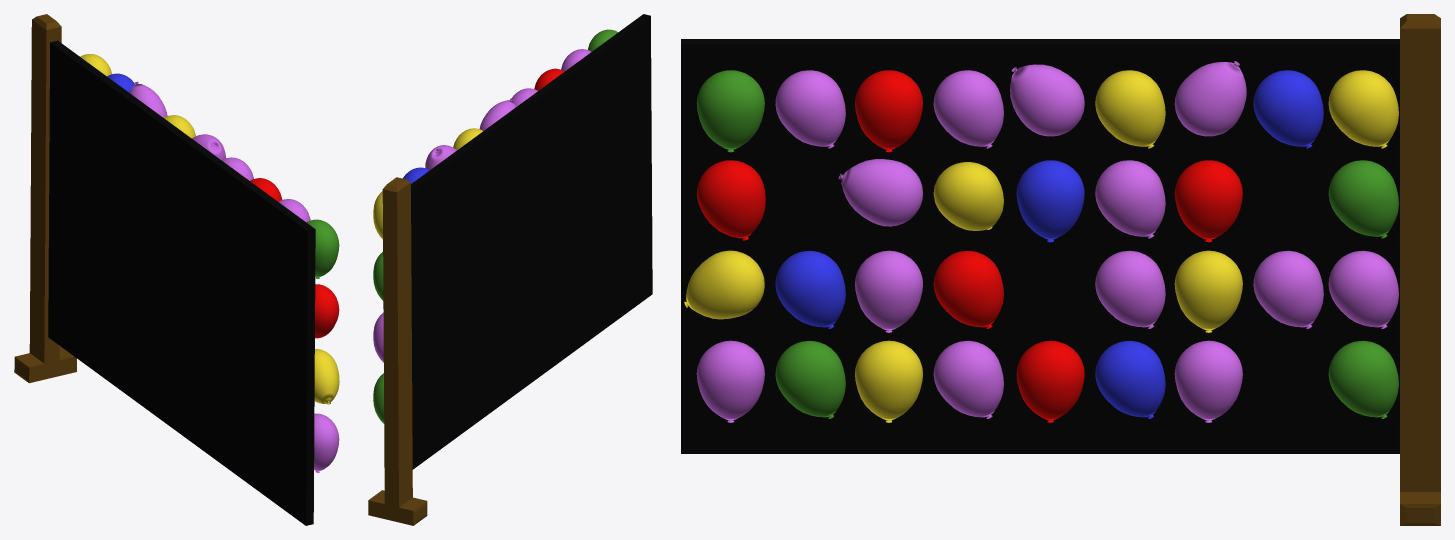
File: juego_globos.glb
3 views of the same model, side by side, from view 1: azimuth 30°, elevation 25°; view 2: azimuth 150°, elevation 25°; view 3: azimuth 270°, elevation 25° (orthographic). The views are drawn at different scales.
Visible parts, largest first — view 1: Cube.001, Cube, Cube.002, Sphere.027, Sphere.018, Sphere, Sphere.009, Sphere.006, Sphere.004; view 2: Cube.001, Cube, Cube.002, Sphere.004, Sphere.006, Sphere.035, Sphere.026, Sphere.017, Sphere.008; view 3: Cube.001, Cube, Sphere.011, Sphere.004, Sphere.018, Sphere.006, Sphere.028, Sphere.023, Sphere.032, Sphere.019, Sphere.005, Sphere.025 (+23 smaller).
Part boxes in pixels (x1,y1,x2,y2): Cube.001: [48, 40, 315, 525]; Cube: [29, 14, 61, 371]; Cube.002: [14, 346, 76, 383]; Sphere.027: [314, 413, 339, 472]; Sphere.018: [314, 349, 339, 404]; Sphere: [307, 219, 339, 278]; Sphere.009: [315, 284, 339, 338]; Sphere.006: [129, 81, 167, 117]; Sphere.004: [192, 134, 225, 160]; Cube.001: [411, 14, 652, 469]; Cube: [382, 177, 412, 514]; Cube.002: [368, 490, 427, 525]; Sphere.004: [479, 98, 516, 130]; Sphere.006: [425, 145, 456, 169]; Sphere.035: [373, 373, 384, 423]; Sphere.026: [373, 312, 383, 362]; Sphere.017: [373, 252, 383, 300]; Sphere.008: [373, 191, 382, 239]; Cube.001: [681, 39, 1399, 453]; Cube: [1400, 14, 1440, 491]; Sphere.011: [838, 159, 922, 226]; Sphere.004: [1010, 64, 1084, 136]; Sphere.018: [684, 250, 764, 319]; Sphere.006: [1174, 61, 1246, 136]; Sphere.028: [775, 340, 845, 418]; Sphere.023: [1095, 250, 1165, 328]; Sphere.032: [1095, 340, 1165, 418]; Sphere.019: [775, 250, 845, 328]; Sphere.005: [1095, 70, 1165, 148]; Sphere.025: [1253, 250, 1323, 328].
Bounding box in the file's own units: 1.12 × 5.62 × 7.85.
